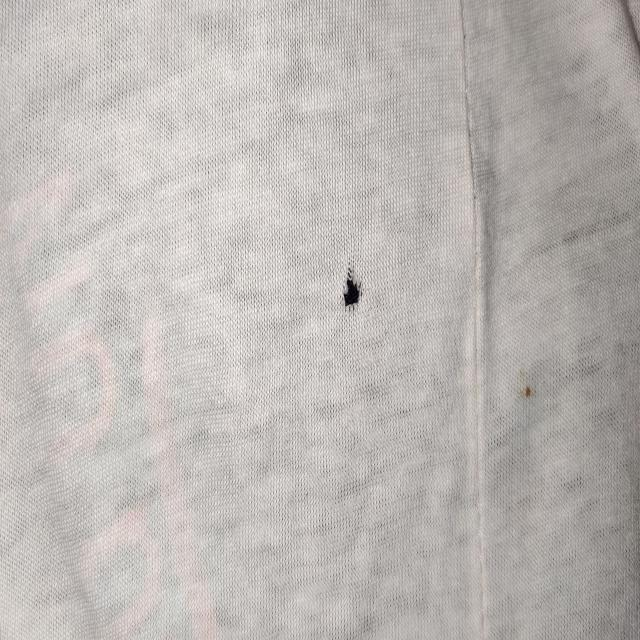Hole: (341, 261, 363, 311), (518, 370, 536, 400)
Line: (456, 0, 493, 640)
